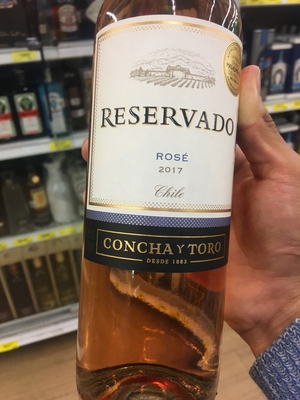reservado rose: (79, 9, 241, 391)
